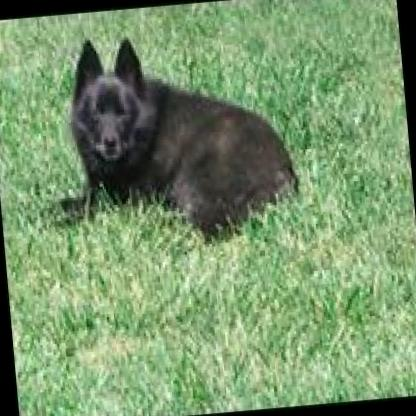schipperke: (20, 12, 304, 262)
